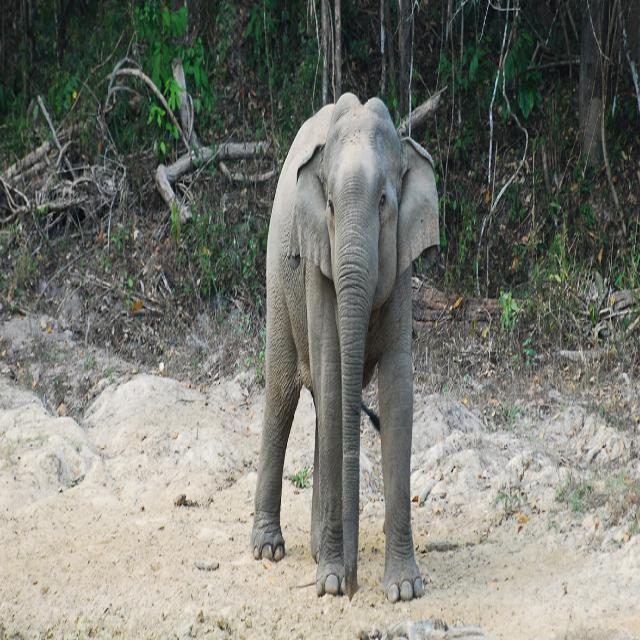Elephant: (239, 83, 448, 613)
